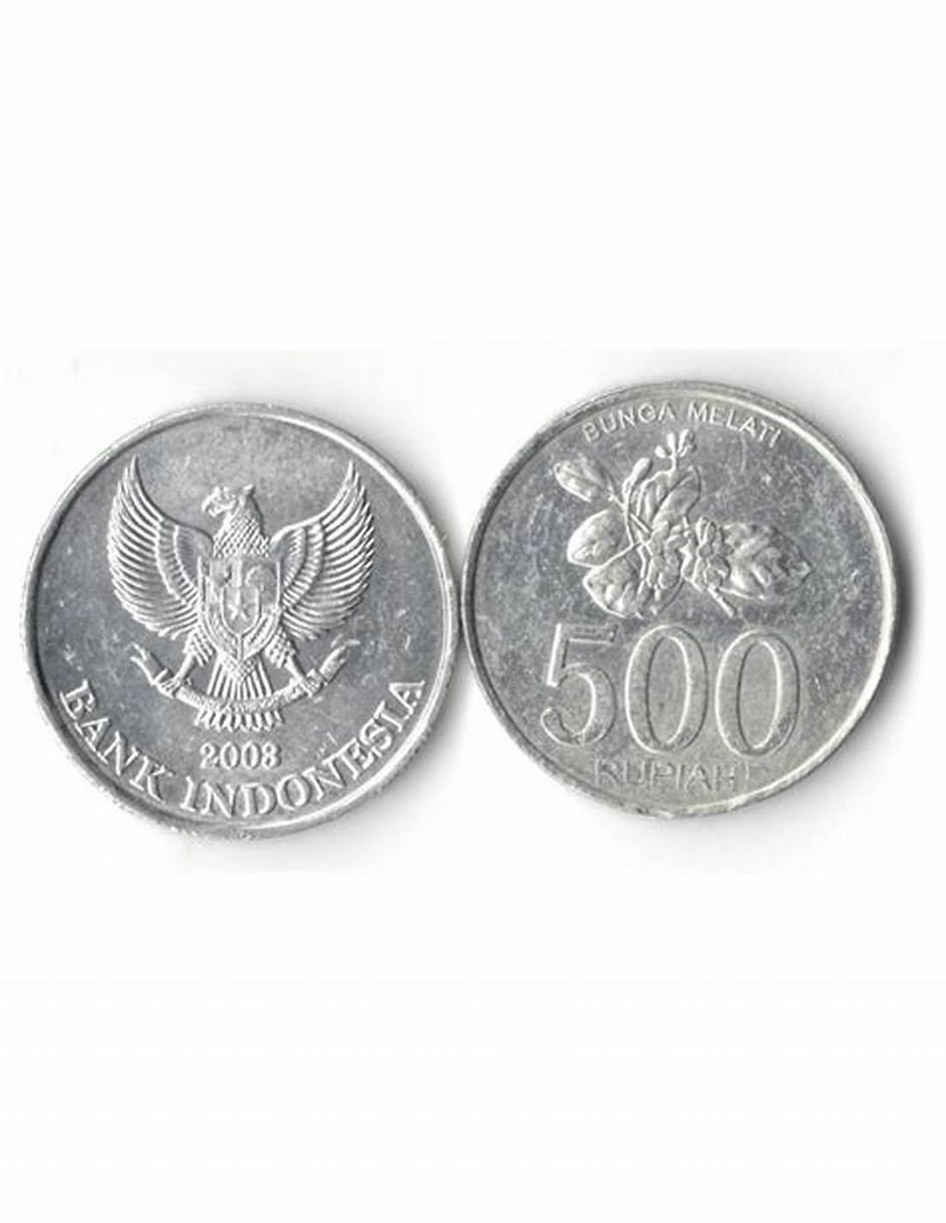coin_500_e2003: (19, 392, 467, 846), (469, 374, 899, 821)
